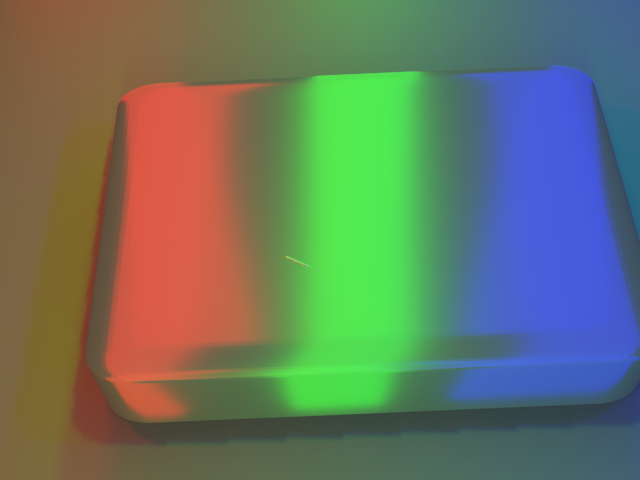scratch: (252, 240, 336, 291)
